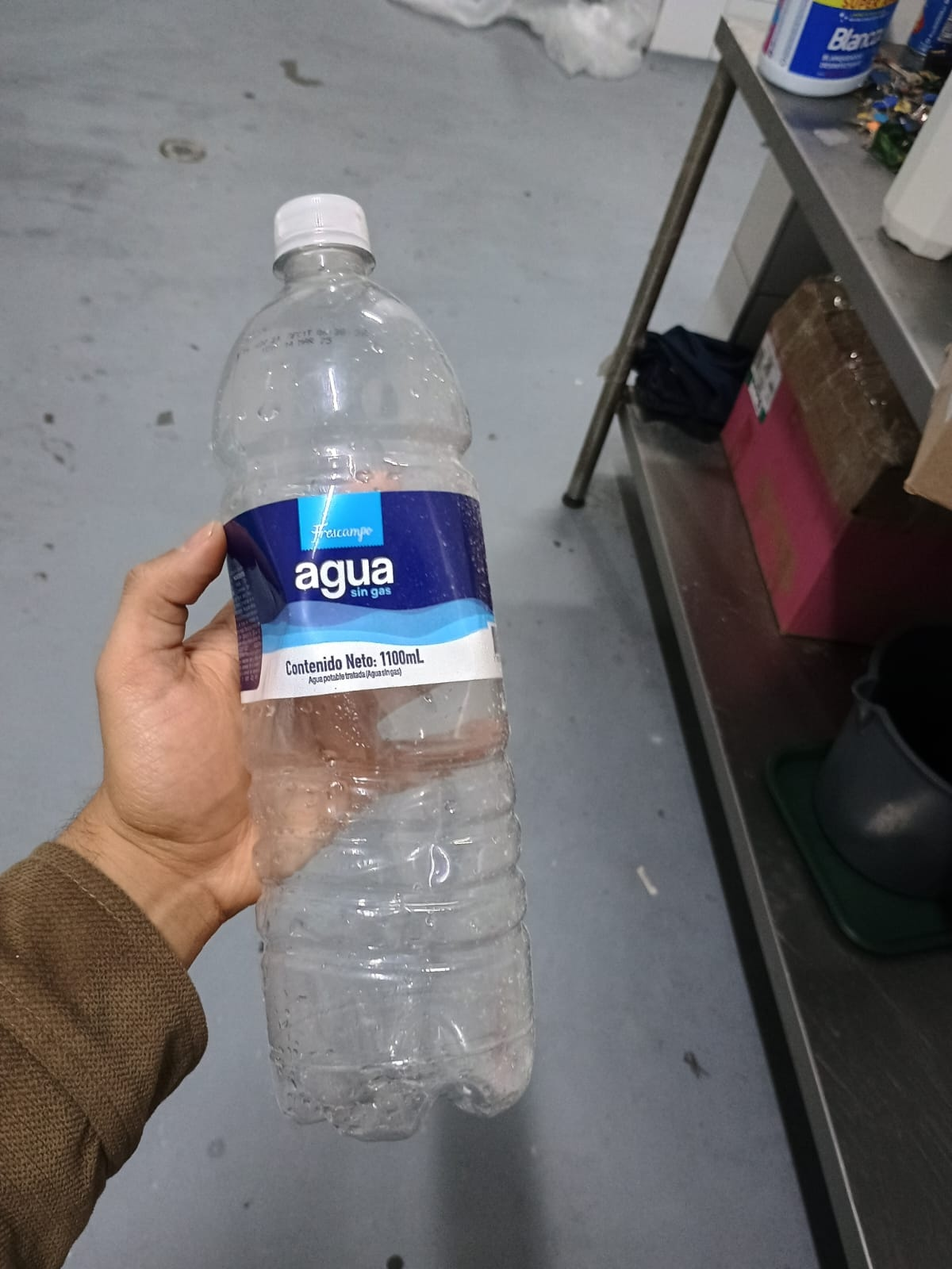Plastico: (218, 195, 538, 1138)
